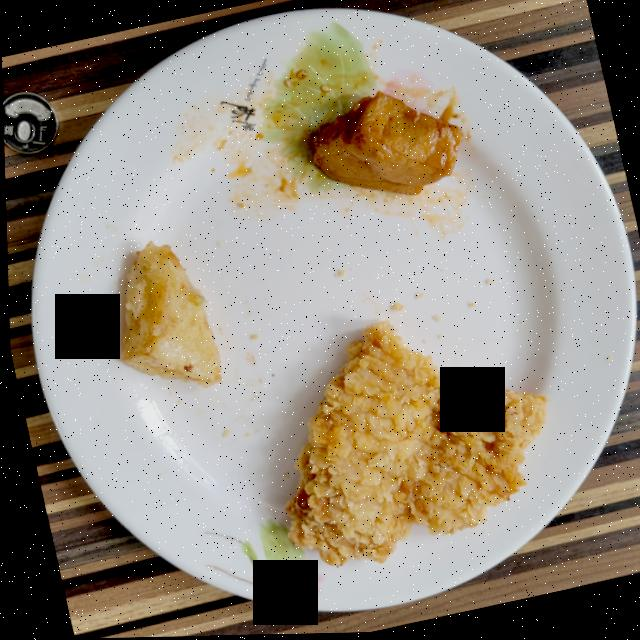coin: (2, 91, 58, 153)
creamy tofu: (312, 93, 461, 197)
fried chicken cutlet: (282, 322, 544, 567)
fried potato: (120, 241, 219, 387)
